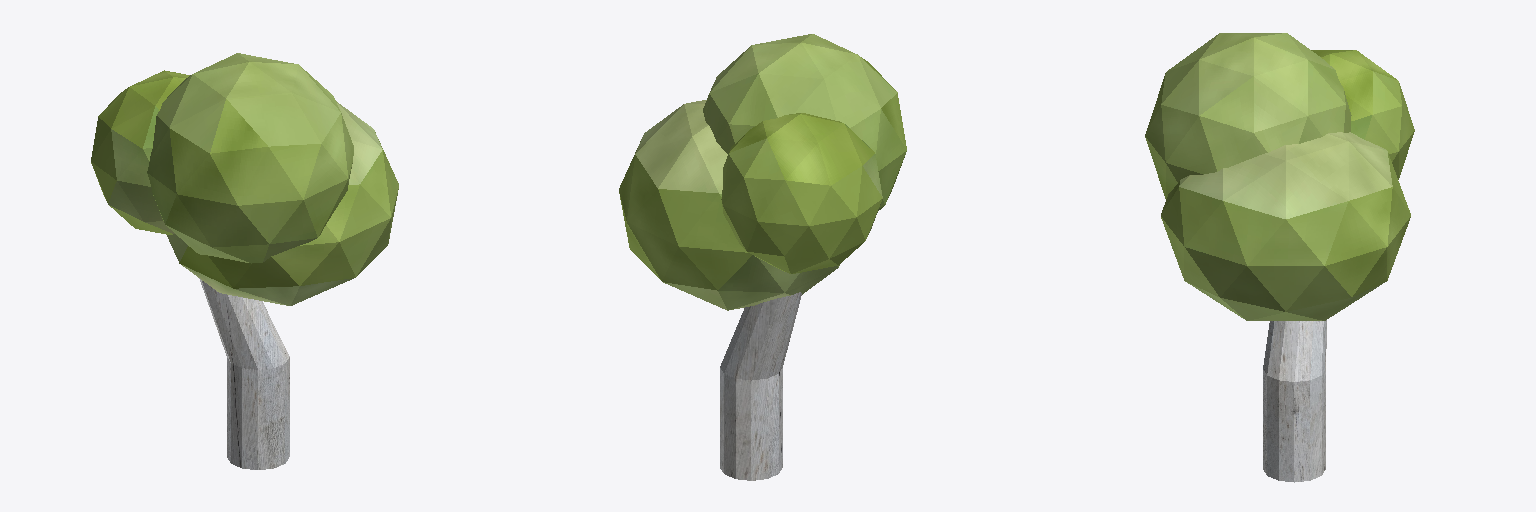
3 views of the same model, side by side, from view 1: azimuth 30°, elevation 25°; view 2: azimuth 150°, elevation 25°; view 3: azimuth 270°, elevation 25° (orthographic).
Parts seen in each view (by area): view 1: Cylinder.002; view 2: Cylinder.002; view 3: Cylinder.002.
Part boxes in pixels (x1,y1,x2,y2): Cylinder.002: (91,53,398,469); Cylinder.002: (619,34,906,480); Cylinder.002: (1145,33,1414,482).
Bounding box in the file's own units: 4.63 × 7.26 × 4.26.
Materials: 1 (1 with a texture image).